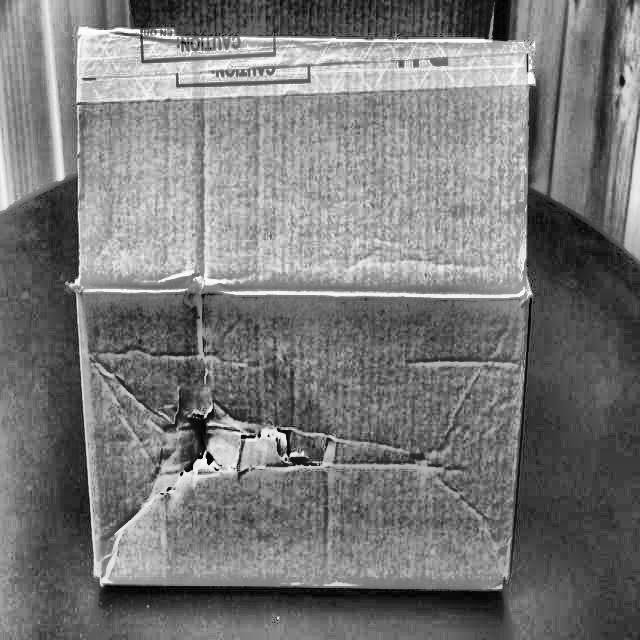box: (64, 18, 536, 600)
hole: (156, 389, 319, 518)
